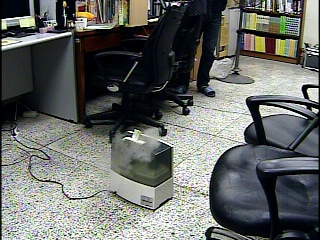smoke: (109, 123, 162, 172)
